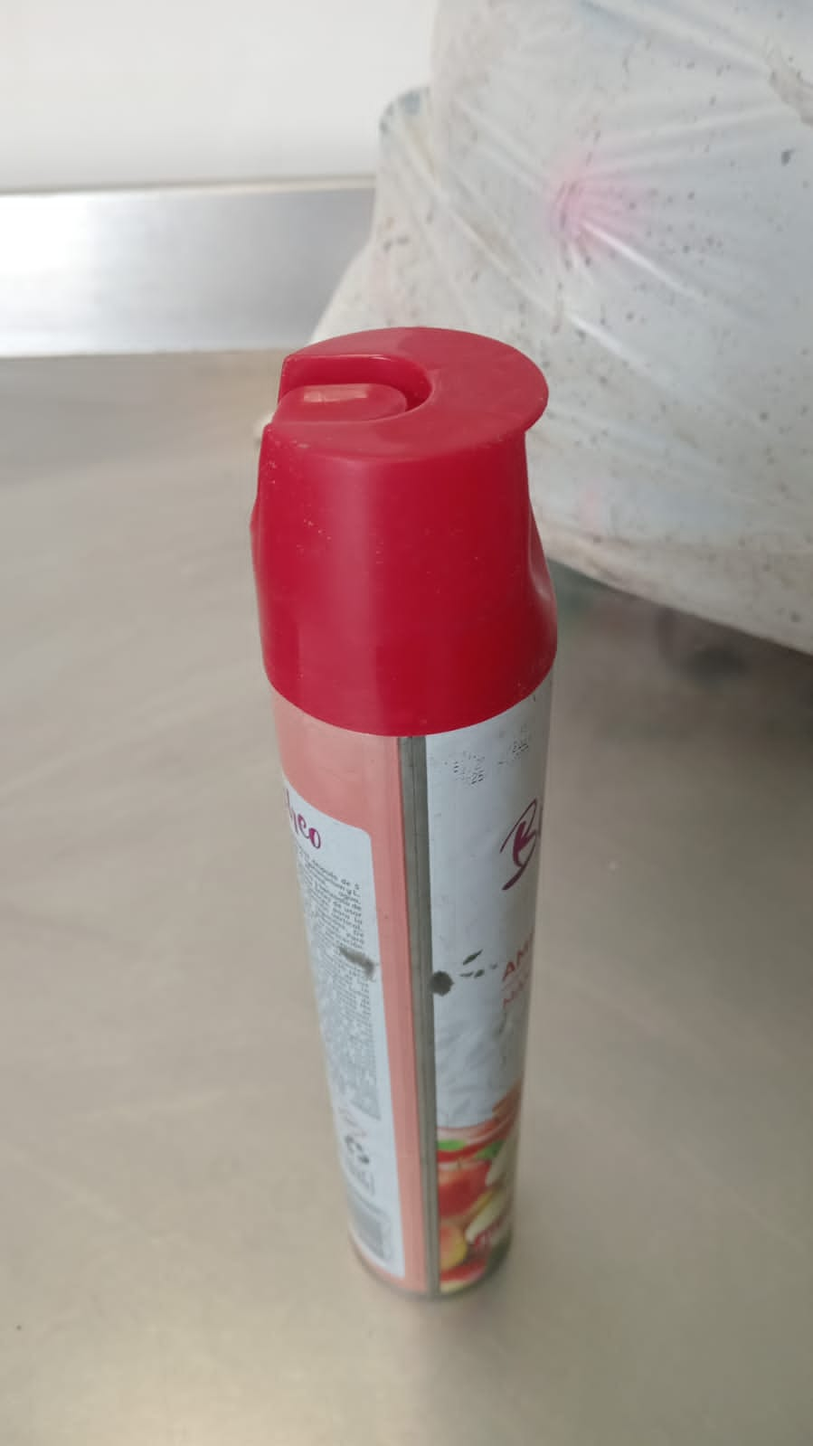Metal: (274, 668, 557, 1301)
Plastico: (250, 327, 557, 670)
